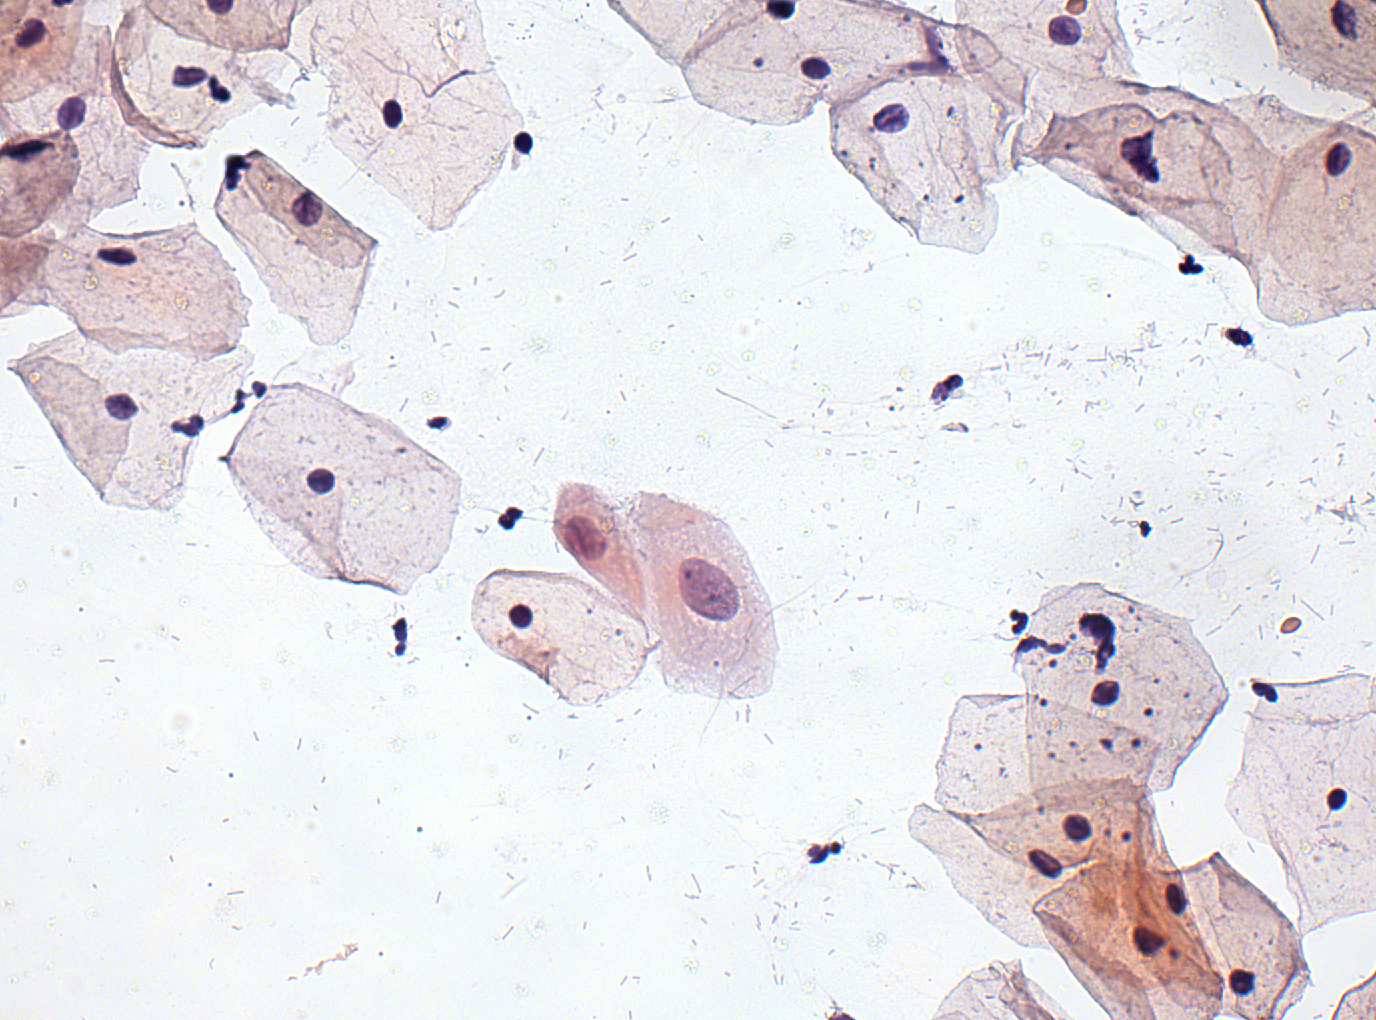Abnormal_Nucleus: (675, 556, 742, 621), (1077, 612, 1120, 676)
Normal_Nucleus: (1117, 130, 1161, 186), (1330, 1, 1365, 42), (14, 16, 50, 52), (89, 242, 139, 268), (289, 189, 324, 226), (1131, 920, 1164, 959), (870, 102, 910, 134), (1046, 14, 1085, 46), (102, 391, 140, 421), (55, 94, 88, 129), (1024, 849, 1061, 879), (1323, 141, 1352, 177), (304, 466, 336, 497), (170, 64, 209, 90), (797, 55, 834, 81), (1226, 965, 1256, 997), (1086, 678, 1120, 705), (1063, 813, 1091, 843), (1164, 881, 1187, 916), (765, 1, 801, 24), (380, 97, 404, 131), (507, 603, 534, 629), (1323, 787, 1348, 813)
